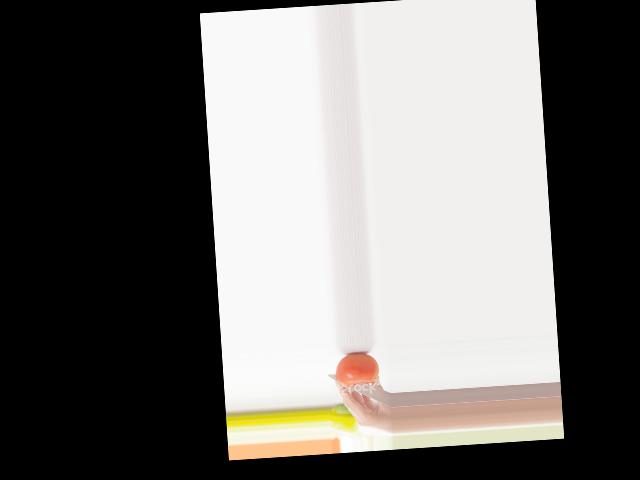tomato: (334, 351, 380, 387)
